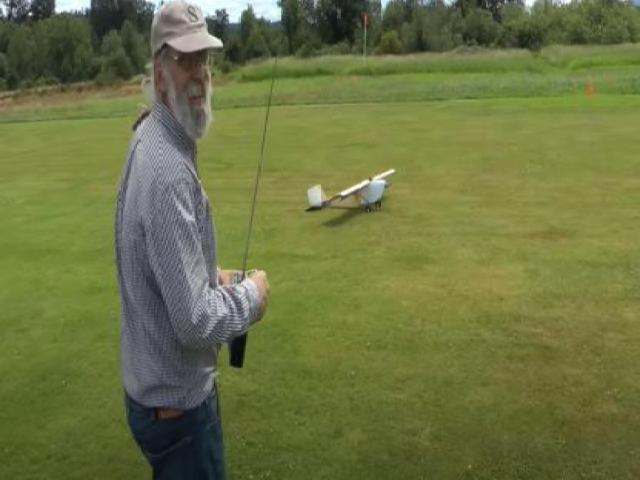uav: (300, 158, 400, 226)
